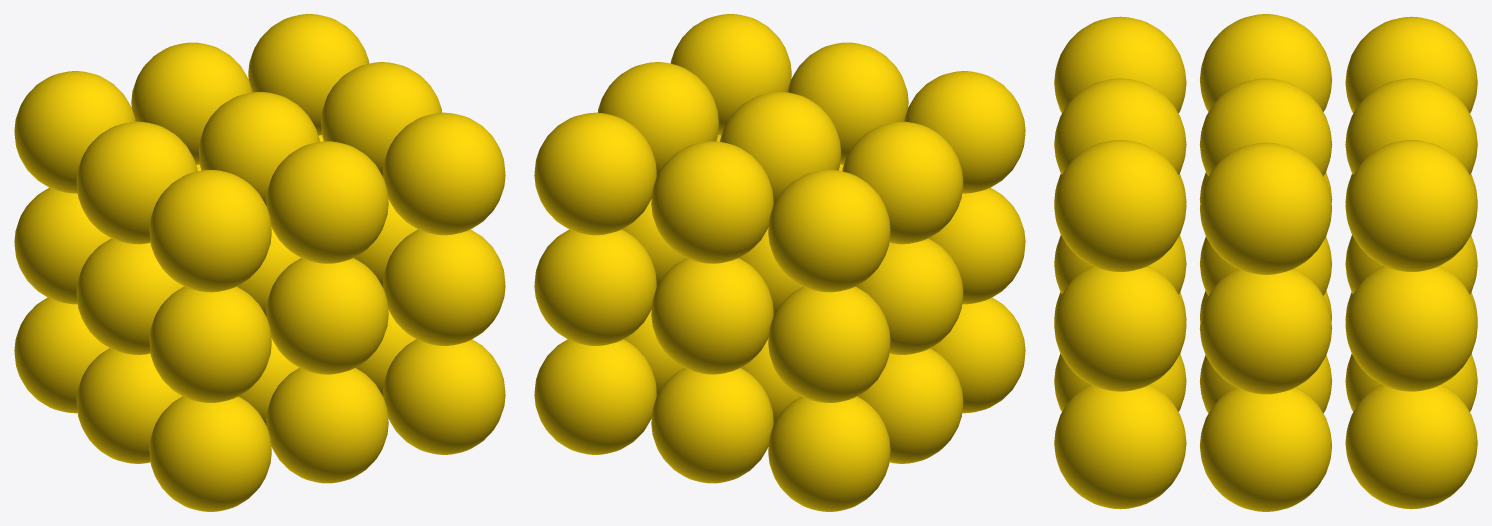
Rendered from Gold_Metalic_Bond.fbx.
3 views of the same model, side by side, from view 1: azimuth 30°, elevation 25°; view 2: azimuth 150°, elevation 25°; view 3: azimuth 270°, elevation 25° (orthographic). The views are drawn at different scales.
Parts seen in each view (by area): view 1: Sphere.011, Sphere.014, Sphere.010, Sphere.006, Sphere.003, Sphere.007, Sphere.020, Sphere.023, Sphere.019, Sphere.015, Sphere.009, Sphere.002 (+11 smaller); view 2: Sphere.009, Sphere.013, Sphere.012, Sphere.008, Sphere.004, Sphere.005, Sphere.018, Sphere.022, Sphere.021, Sphere.015, Sphere.011, Sphere.002 (+11 smaller); view 3: Sphere.016, Sphere.012, Sphere.010, Sphere.001, Sphere.007, Sphere.005, Sphere.021, Sphere.019, Sphere.025, Sphere.017, Sphere.015, Sphere.011 (+9 smaller).
Boxes of the visible parts, bbox=[...] form: Sphere.011: bbox=[149, 170, 271, 292]; Sphere.014: bbox=[266, 141, 388, 263]; Sphere.010: bbox=[383, 112, 505, 235]; Sphere.006: bbox=[149, 286, 271, 402]; Sphere.003: bbox=[266, 258, 388, 374]; Sphere.007: bbox=[383, 229, 505, 345]; Sphere.020: bbox=[149, 396, 271, 511]; Sphere.023: bbox=[266, 368, 388, 483]; Sphere.019: bbox=[383, 339, 505, 454]; Sphere.015: bbox=[76, 121, 197, 244]; Sphere.009: bbox=[14, 71, 135, 193]; Sphere.002: bbox=[76, 238, 183, 354]; Sphere.009: bbox=[768, 170, 890, 292]; Sphere.013: bbox=[651, 141, 773, 263]; Sphere.012: bbox=[534, 112, 656, 235]; Sphere.008: bbox=[768, 286, 890, 402]; Sphere.004: bbox=[651, 258, 773, 374]; Sphere.005: bbox=[534, 229, 656, 345]; Sphere.018: bbox=[768, 396, 890, 511]; Sphere.022: bbox=[651, 368, 773, 483]; Sphere.021: bbox=[534, 339, 656, 454]; Sphere.015: bbox=[842, 121, 963, 244]; Sphere.011: bbox=[904, 71, 1025, 193]; Sphere.002: bbox=[856, 238, 963, 354]; Sphere.016: bbox=[1200, 142, 1331, 274]; Sphere.012: bbox=[1345, 140, 1477, 272]; Sphere.010: bbox=[1054, 140, 1186, 272]; Sphere.001: bbox=[1199, 268, 1332, 394]; Sphere.007: bbox=[1054, 266, 1186, 391]; Sphere.005: bbox=[1345, 266, 1477, 391]; Sphere.021: bbox=[1345, 384, 1477, 509]; Sphere.019: bbox=[1054, 384, 1186, 509]; Sphere.025: bbox=[1200, 387, 1331, 511]; Sphere.017: bbox=[1199, 78, 1332, 176]; Sphere.015: bbox=[1200, 14, 1331, 111]; Sphere.011: bbox=[1054, 16, 1186, 113].
Size of the model in its own units: 660 by 595 by 640.
